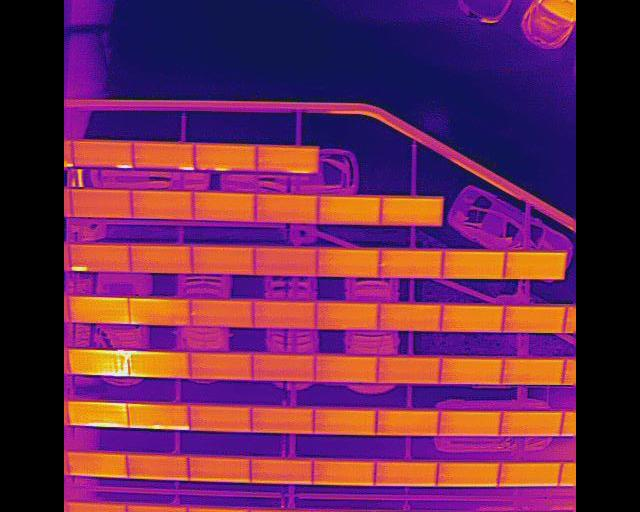Cell: (195, 143, 257, 170), (67, 500, 130, 512)
No-Anomaly: (255, 192, 319, 222), (192, 190, 256, 220), (67, 294, 132, 323), (317, 247, 381, 276), (188, 404, 252, 433), (131, 189, 195, 218), (252, 299, 318, 327), (127, 296, 193, 324), (316, 353, 378, 382), (442, 249, 504, 278), (256, 144, 320, 172), (251, 405, 315, 433), (380, 248, 444, 276), (379, 302, 443, 330), (129, 245, 193, 273), (189, 299, 255, 326), (188, 352, 254, 379), (318, 195, 381, 223), (192, 246, 255, 274), (378, 355, 441, 383), (312, 407, 377, 434), (254, 246, 316, 274), (442, 303, 504, 331), (251, 353, 315, 380), (69, 189, 133, 216), (440, 356, 506, 382), (505, 250, 566, 278), (312, 458, 375, 485), (382, 196, 442, 224), (317, 301, 379, 328), (250, 456, 314, 482), (187, 455, 251, 481), (126, 453, 190, 479), (375, 459, 438, 485), (66, 450, 128, 476), (439, 410, 503, 435), (375, 409, 438, 434), (504, 305, 566, 330), (498, 461, 561, 485), (501, 411, 564, 435), (437, 461, 499, 485), (503, 358, 565, 382), (186, 506, 253, 512)
Unclassified: (69, 243, 132, 271), (129, 350, 192, 378), (72, 139, 134, 167), (68, 347, 130, 375), (132, 141, 194, 169), (127, 403, 191, 429), (68, 400, 130, 426), (126, 504, 188, 512)
